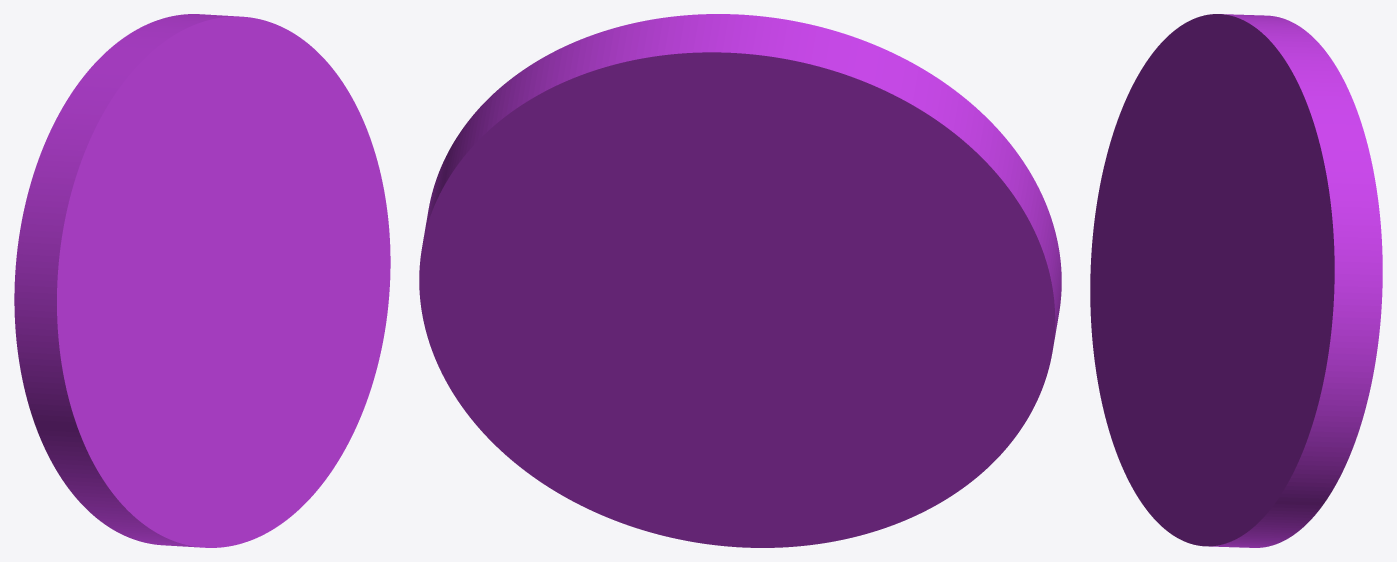
The picture shows the model from 3 angles, left to right: view 1: azimuth 30°, elevation 25°; view 2: azimuth 150°, elevation 25°; view 3: azimuth 270°, elevation 25°; orthographic projection. The views are drawn at different scales.
Visible parts, largest first — view 1: Circle.002; view 2: Circle.002; view 3: Circle.002.
Boxes of the visible parts, x1,y1,x2,y2 form: Circle.002: [14, 14, 390, 547]; Circle.002: [419, 14, 1061, 547]; Circle.002: [1090, 14, 1382, 547].
Size of the model in its own units: 2.97 by 3.02 by 1.67.
